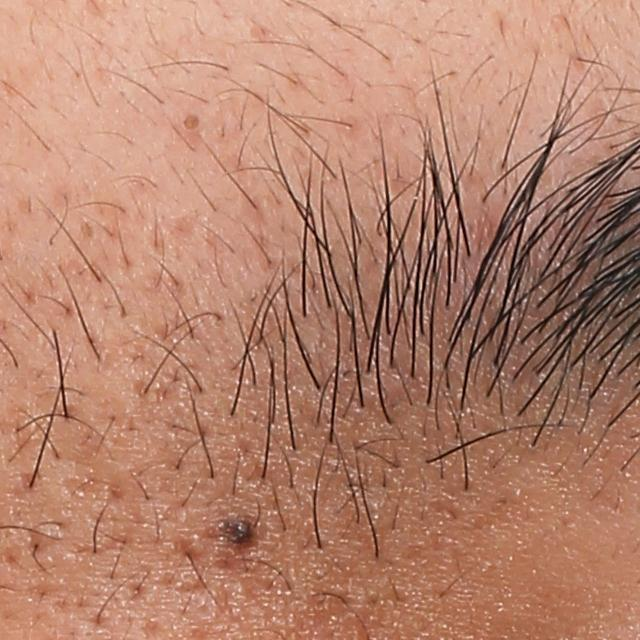nevus: (211, 522, 251, 555)
